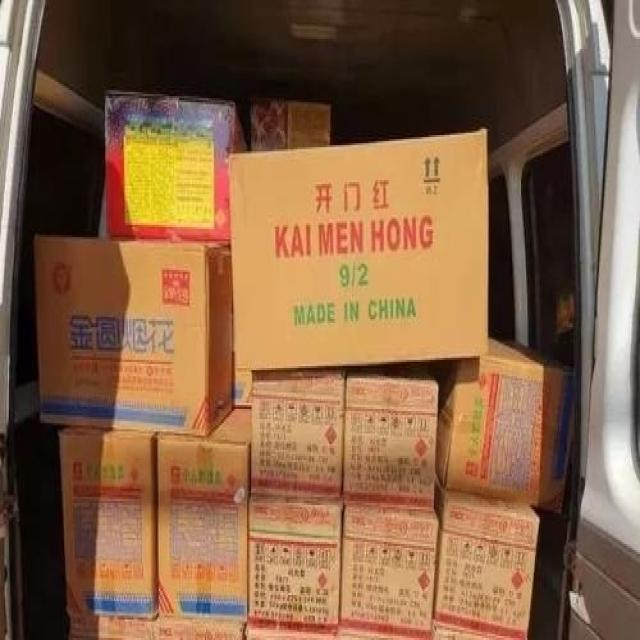box: (232, 129, 488, 407), (35, 237, 233, 436), (436, 335, 577, 515), (106, 92, 248, 243), (159, 411, 251, 620), (60, 427, 156, 618), (434, 481, 539, 640), (343, 368, 439, 511), (340, 505, 439, 640), (251, 370, 344, 501), (250, 503, 340, 634), (69, 613, 154, 640), (288, 100, 332, 147), (251, 98, 287, 149), (155, 620, 243, 640), (434, 624, 515, 640), (247, 628, 337, 640), (339, 632, 412, 640)
